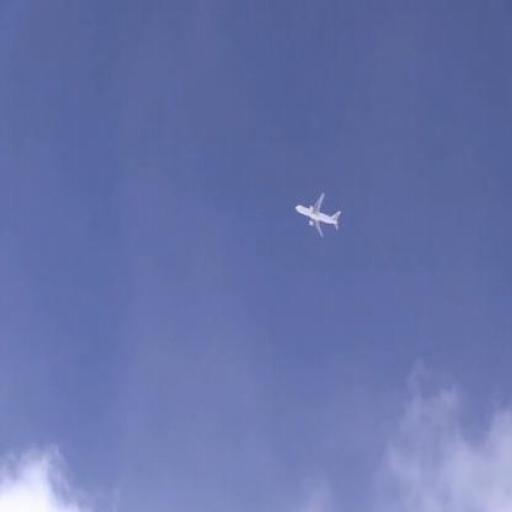aircraft: (294, 196, 342, 238)
